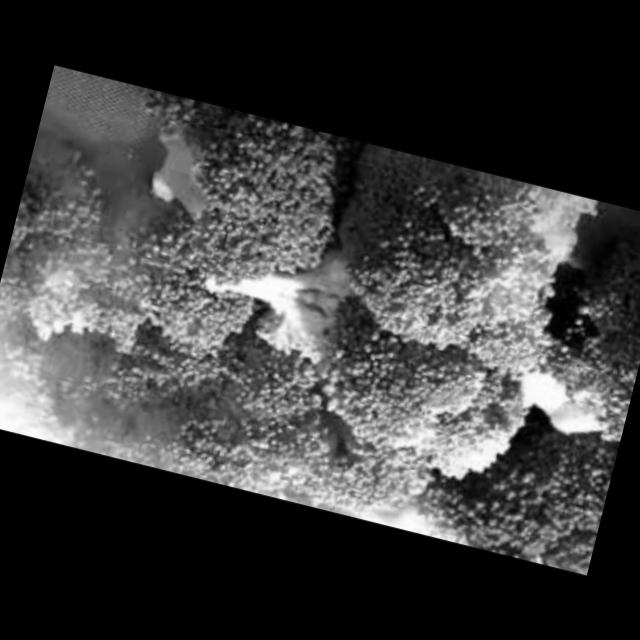broccoli: (0, 66, 640, 574)
